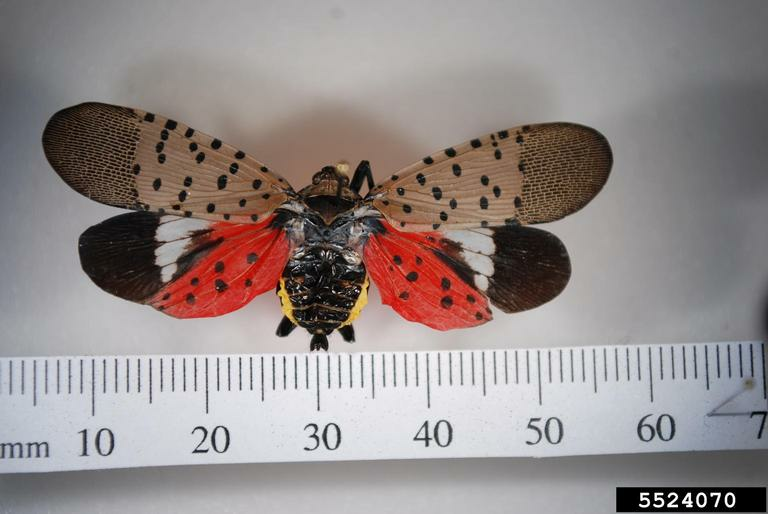adult: (18, 97, 618, 352)
